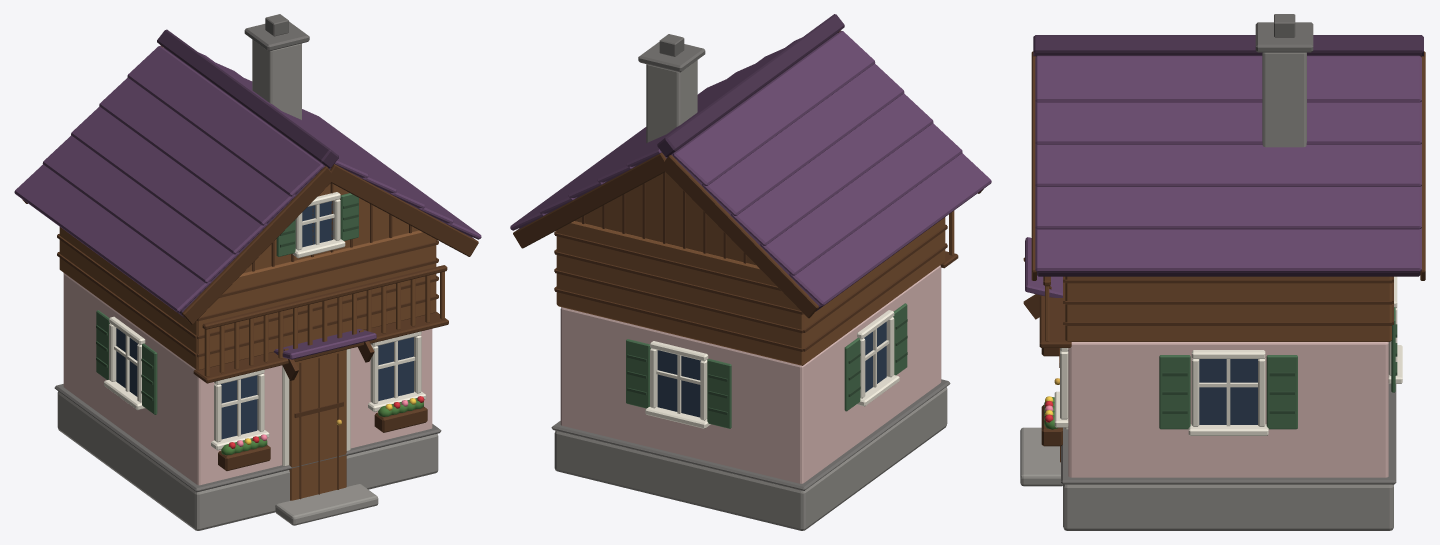
The model's file is house_4.glb.
3 views of the same model, side by side, from view 1: azimuth 30°, elevation 25°; view 2: azimuth 150°, elevation 25°; view 3: azimuth 270°, elevation 25° (orthographic). The views are drawn at different scales.
Visible parts, largest first — view 1: House4; view 2: House4; view 3: House4.
Part boxes in pixels (left/top/right/bottom): House4: left=14, top=14, right=481, bottom=530; House4: left=510, top=14, right=991, bottom=530; House4: left=1020, top=14, right=1425, bottom=530.
Bounding box in the file's own units: 3.89 × 4.91 × 3.8.
